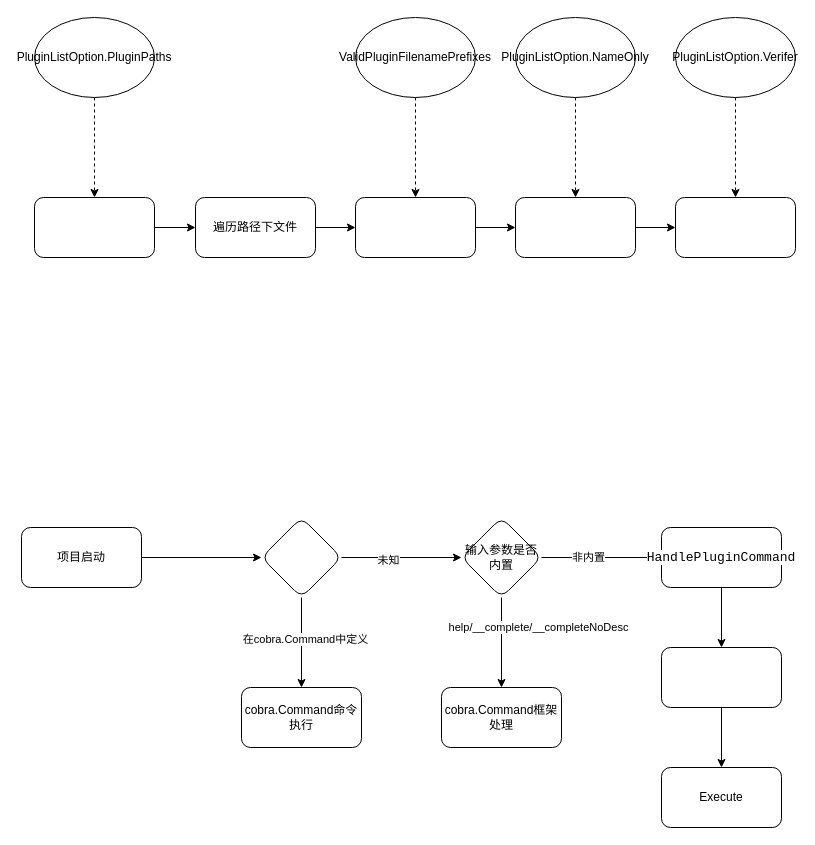
Image size: 815x845. Some labels were removed from this diagram. The centre of each missing label's shape, as x and y in pixels:
Lookup: the point at 721,677
校验文件前缀: the point at 415,227
校验文件名称: the point at 735,227
输入参数是否已知: the point at 301,557
输出可执行文件名称: the point at 575,227
遍历路径: the point at 94,227
